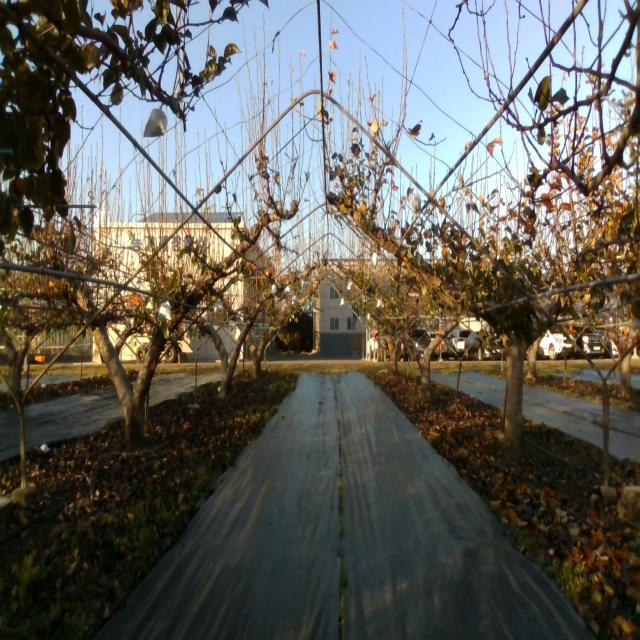pearbags: (143, 108, 168, 138), (158, 300, 172, 322), (410, 193, 421, 219)
